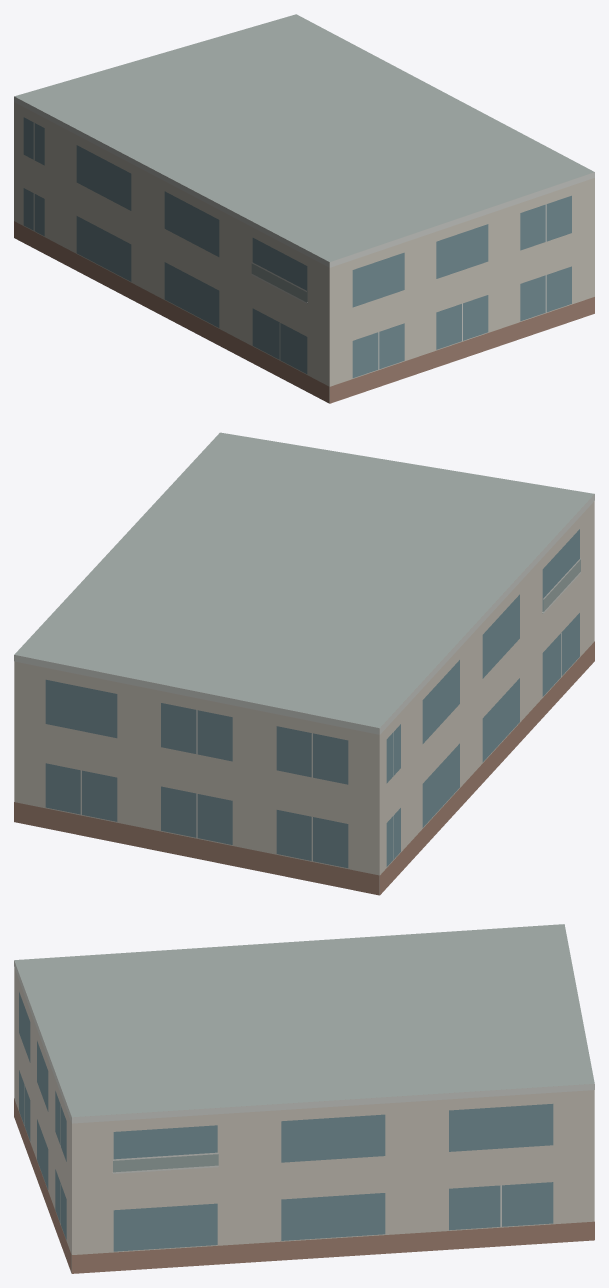
The model's file is survey-upis-33027284.glb.
3 renders of one model, top to bottom at view 1: azimuth 30°, elevation 25°; view 2: azimuth 150°, elevation 25°; view 3: azimuth 270°, elevation 25°, orthographic. The views are drawn at different scales.
Visible parts, largest first — view 1: survey-upis-33027284.tmp; view 2: survey-upis-33027284.tmp; view 3: survey-upis-33027284.tmp.
Part boxes in pixels (bbox=[...]): survey-upis-33027284.tmp: bbox=[14, 14, 594, 403]; survey-upis-33027284.tmp: bbox=[14, 432, 594, 895]; survey-upis-33027284.tmp: bbox=[14, 924, 594, 1273].
Bounding box in the file's own units: 16.16 × 6.1 × 20.52.
